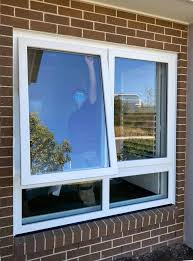Window: (17, 55, 176, 204)
